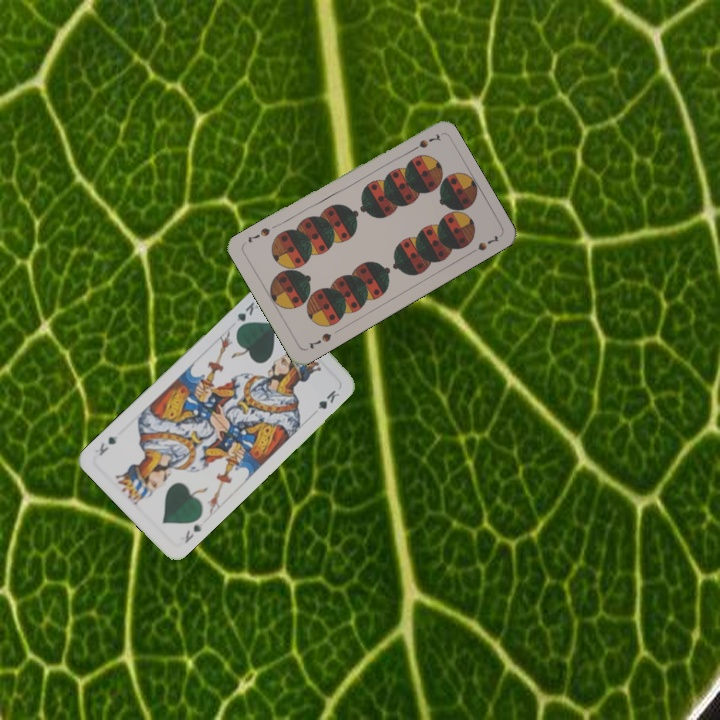GK: (232, 297, 261, 333), (180, 520, 205, 546)
S7: (305, 329, 334, 351), (405, 135, 431, 156)
